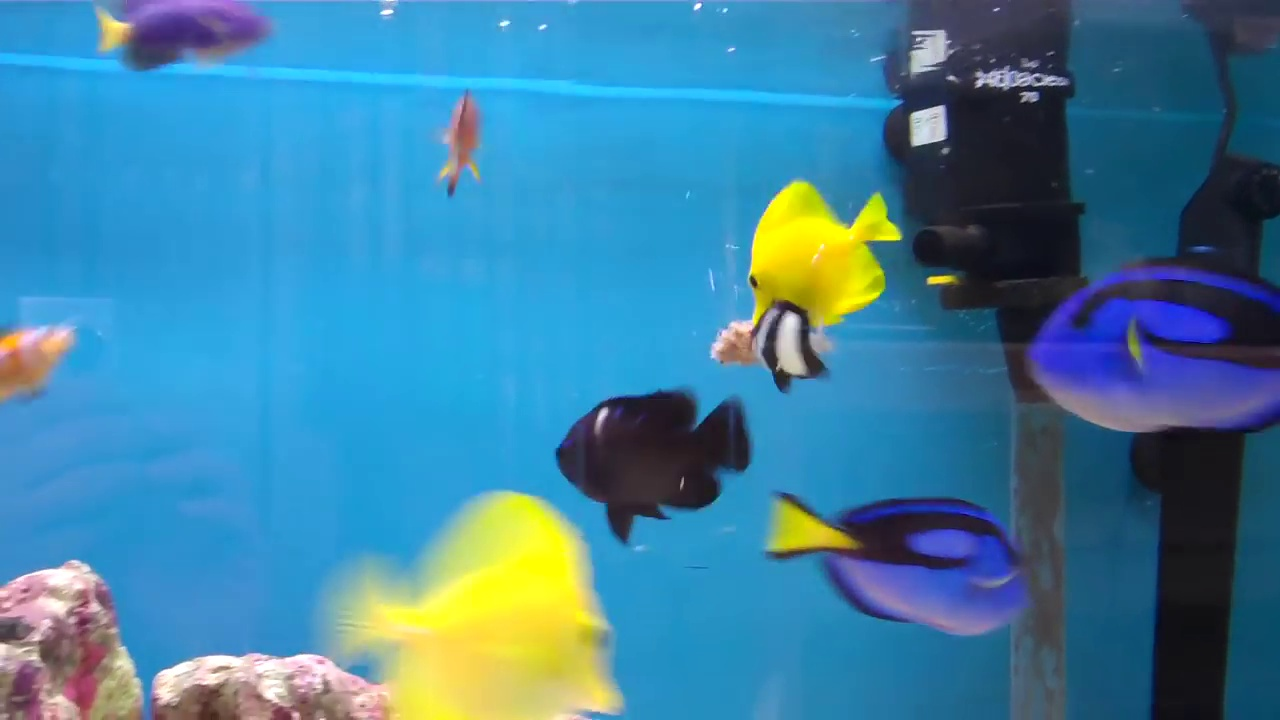blue tang surgeonfish: (765, 424, 1049, 655), (1032, 223, 1280, 433)
saddle butterfly fish: (300, 478, 631, 720), (725, 171, 907, 351)
